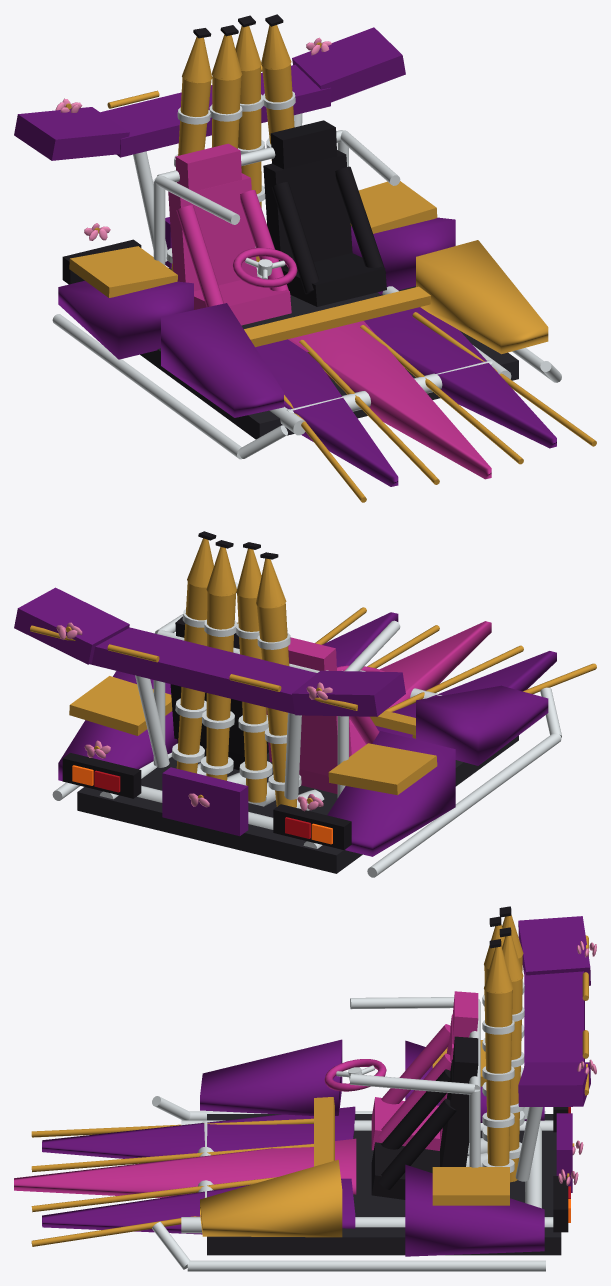
File: A018-04-bosozoku-original-materials-taken-actor-runtime-v2.glb
3 views of the same model, one above another, from view 1: azimuth 30°, elevation 25°; view 2: azimuth 150°, elevation 25°; view 3: azimuth 270°, elevation 25° (orthographic). The views are drawn at different scales.
Visible parts, largest first — view 1: LP05B_Body_Part_01; view 2: LP05B_Body_Part_01; view 3: LP05B_Body_Part_01.
Part boxes in pixels (box(x1,y1,x2,y2)): LP05B_Body_Part_01: box(14, 14, 596, 502); LP05B_Body_Part_01: box(14, 531, 596, 877); LP05B_Body_Part_01: box(14, 906, 596, 1271).
Size of the model in its own units: 0.7 by 0.5146 by 1.
